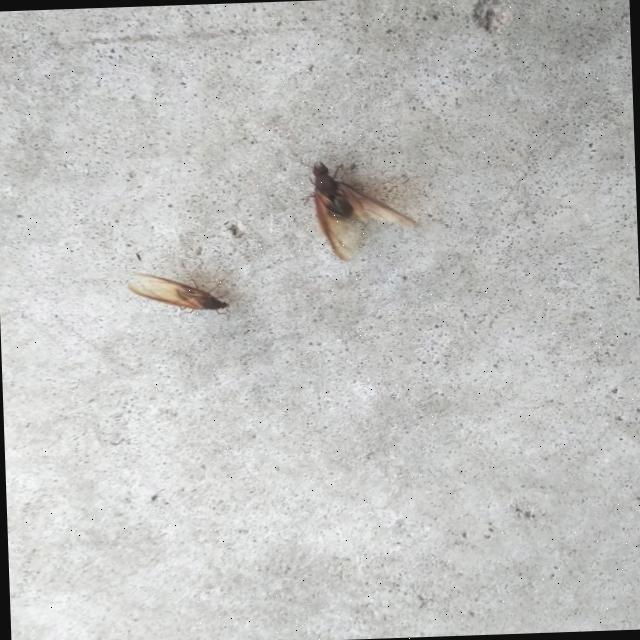Alive-Female-Alate: (301, 154, 417, 262)
Alive-Male-Alate: (125, 259, 242, 318)
